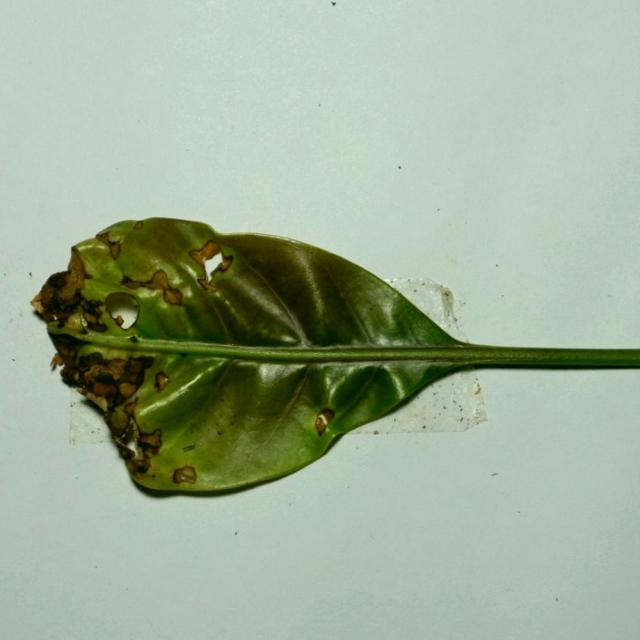Anthracnose: (188, 236, 246, 309), (106, 396, 163, 469), (30, 258, 90, 325), (123, 268, 183, 306), (191, 240, 231, 291), (136, 356, 173, 402), (103, 291, 140, 329), (51, 340, 83, 381), (64, 248, 87, 297), (77, 387, 115, 415), (112, 357, 146, 387), (81, 363, 116, 389), (112, 433, 140, 464), (94, 231, 123, 260), (107, 408, 131, 437), (39, 282, 61, 311), (314, 408, 335, 436), (172, 465, 197, 485), (30, 290, 49, 316), (92, 380, 118, 398), (197, 240, 220, 260), (122, 398, 141, 421), (48, 271, 69, 291), (151, 269, 170, 291), (76, 354, 95, 373), (117, 382, 138, 399), (188, 248, 207, 266), (49, 352, 66, 371), (197, 277, 218, 292), (120, 278, 145, 290), (86, 352, 105, 367), (137, 355, 155, 370), (95, 231, 111, 246), (40, 309, 56, 322), (114, 315, 124, 327), (133, 220, 144, 230)
Lemon: (31, 218, 639, 500)
